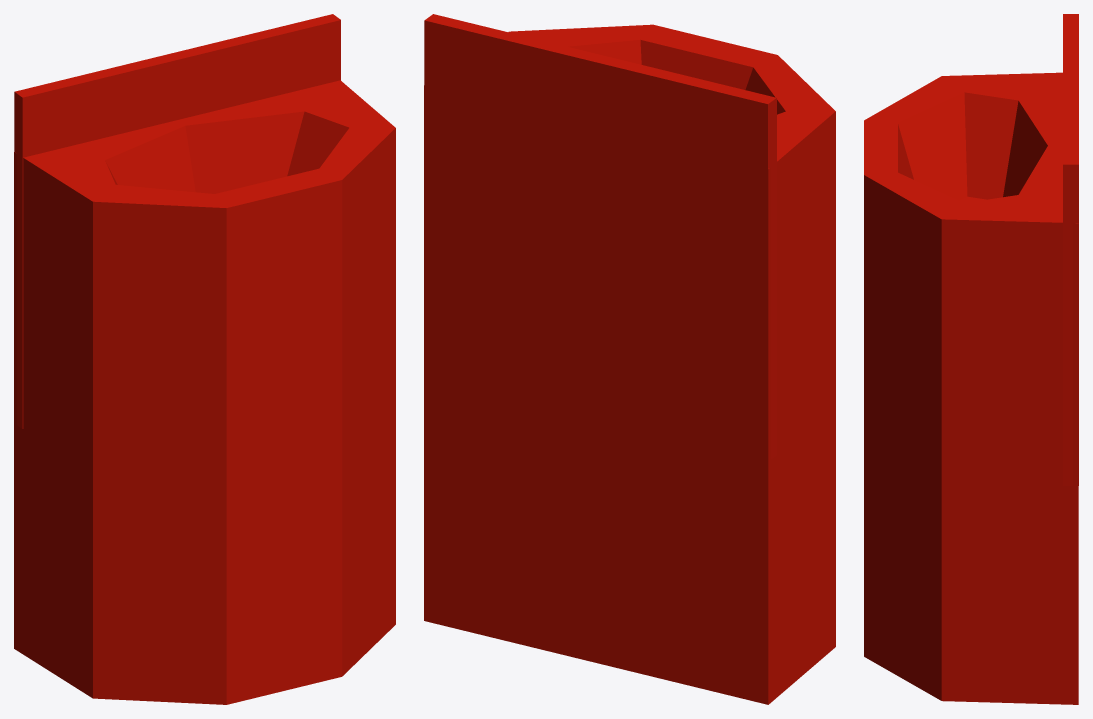
File: UCX_sink_metal.fbx
3 renders of one model, left to right at view 1: azimuth 30°, elevation 25°; view 2: azimuth 150°, elevation 25°; view 3: azimuth 270°, elevation 25°, orthographic. The views are drawn at different scales.
Parts seen in each view (by area): view 1: UCX_sink_metal; view 2: UCX_sink_metal; view 3: UCX_sink_metal.
Part boxes in pixels (<box>): UCX_sink_metal: <box>14,14,395,704</box>; UCX_sink_metal: <box>424,14,835,704</box>; UCX_sink_metal: <box>864,14,1078,704</box>.
Size of the model in its own units: 0.5157 by 0.8598 by 0.3097.
